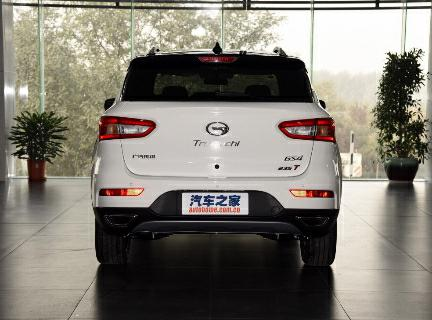广汽传祺-传祺GS4: (88, 39, 347, 271)
